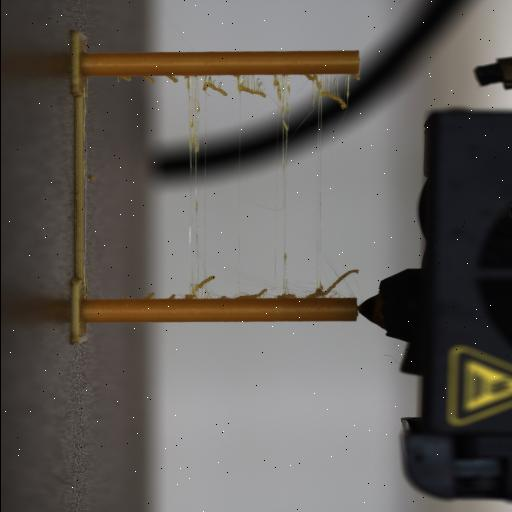stringing: (271, 276, 349, 300), (286, 100, 318, 142), (318, 268, 359, 298), (260, 80, 284, 118), (235, 75, 269, 99), (189, 275, 215, 297), (318, 89, 346, 109), (202, 76, 228, 96), (258, 200, 285, 212), (165, 75, 178, 83), (143, 76, 155, 84), (118, 76, 131, 82), (142, 293, 154, 299), (351, 74, 360, 80), (168, 294, 176, 299)
